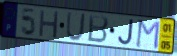5: (19, 7, 37, 38)
B: (86, 13, 110, 45)
H: (37, 9, 60, 40)
J: (117, 19, 135, 47)
M: (135, 18, 161, 51)
U: (64, 11, 87, 43)
